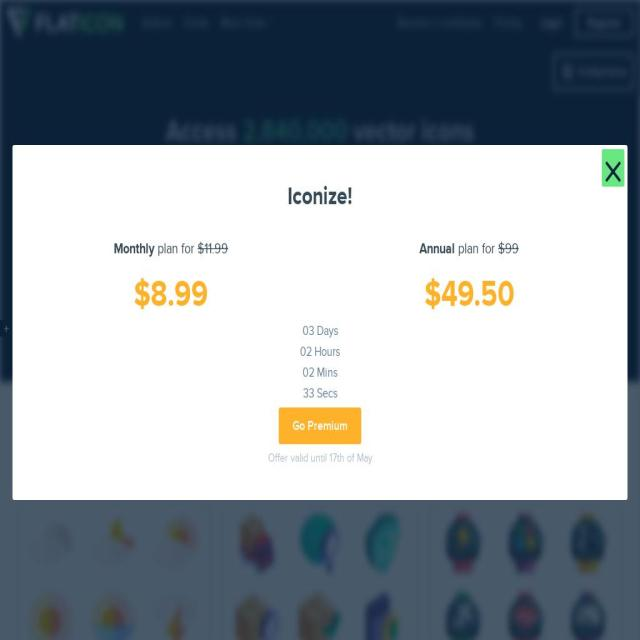button: (222, 503, 418, 640), (16, 503, 211, 640), (430, 503, 624, 640), (6, 8, 123, 38), (62, 196, 120, 250), (553, 53, 634, 90), (575, 8, 634, 37), (350, 310, 398, 332), (404, 310, 451, 332), (262, 310, 307, 332), (222, 310, 256, 332), (182, 310, 215, 332), (314, 310, 344, 332), (540, 13, 562, 32)
field: (120, 196, 538, 250)
heading: (219, 168, 516, 188), (217, 442, 362, 480), (366, 446, 423, 476), (143, 168, 219, 188), (124, 168, 144, 188)
image: (19, 504, 208, 640), (226, 504, 414, 640), (432, 504, 620, 640), (6, 8, 123, 38)
link: (398, 13, 482, 31), (142, 13, 172, 31), (495, 13, 522, 31), (185, 13, 209, 31)
text: (62, 274, 578, 295), (348, 109, 474, 152), (242, 109, 348, 152), (165, 109, 242, 152), (578, 53, 628, 90), (75, 196, 98, 250), (221, 13, 265, 32), (0, 320, 12, 336)
